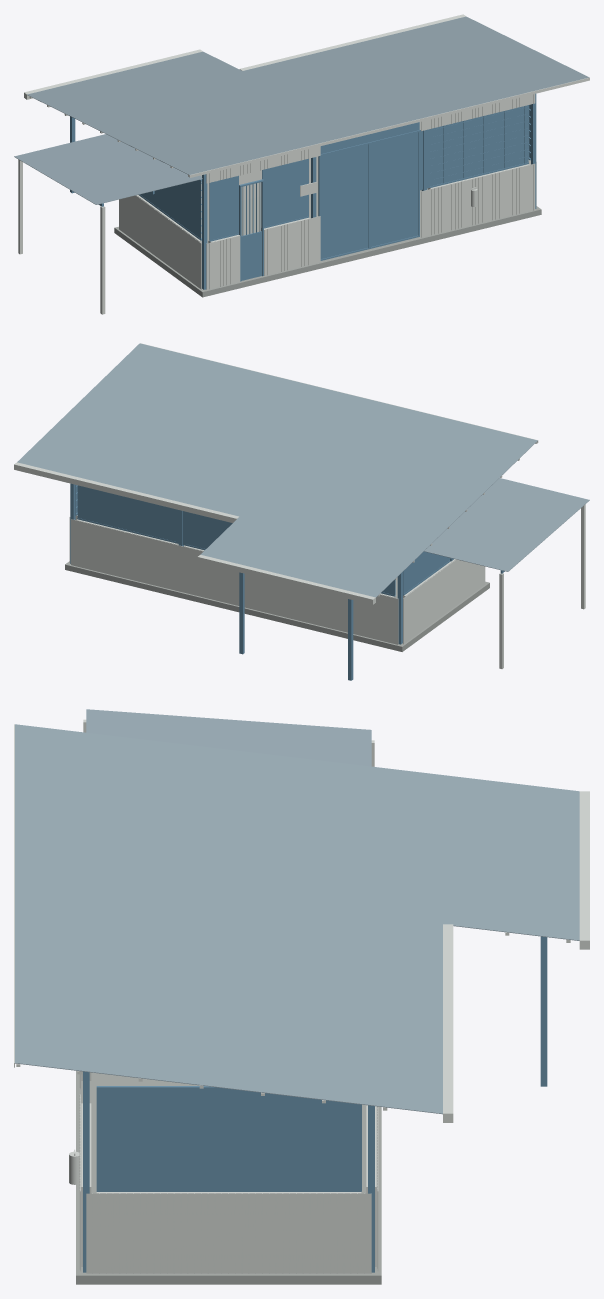
Rendered from bodega-quimicos.glb.
3 views of the same model, one above another, from view 1: azimuth 30°, elevation 25°; view 2: azimuth 150°, elevation 25°; view 3: azimuth 270°, elevation 25° (orthographic). The views are drawn at different scales.
Parts seen in each view (by area): view 1: Basic Roof VOCATUS Quimicos - Lamina esmaltada10mm repr_bab5, VOCATUS Quimicos - Malla fina oscura sobre verjas [1240804], VOCATUS Quimicos - Cerramiento lamina blanca acanalada_5af0e, Basic Roof VOCATUS Quimicos - Lamina esmaltada10mm repr_f8d0, Basic Roof VOCATUS Quimicos - Lamina esmaltada10mm repr_0f07, Foundation Slab VOCATUS Quimicos - Contrapiso150mm repr_fa52, VOCATUS Quimicos - Canoas y botaguas [1240729], VOCATUS Quimicos - Verja frente junto puerta2 [1240802], VOCATUS Quimicos - Verja frontal derecha [1240650], VOCATUS Quimicos - Puerta peatonal azul [1240803], VOCATUS Quimicos - Verja frente junto puerta1 [1240801], VOCATUS Quimicos - Porton metalico hoja 2 [1240652] (+6 smaller); view 2: Basic Roof VOCATUS Quimicos - Lamina esmaltada10mm repr_bab5, VOCATUS Quimicos - Cerramiento lamina blanca acanalada_5af0e, Basic Roof VOCATUS Quimicos - Lamina esmaltada10mm repr_0f07, Basic Roof VOCATUS Quimicos - Lamina esmaltada10mm repr_f8d0, VOCATUS Quimicos - Malla fina oscura sobre verjas [1240804], VOCATUS Quimicos - Canoas y botaguas [1240729], Foundation Slab VOCATUS Quimicos - Contrapiso150mm repr_fa52, VOCATUS Quimicos - Poste cobertizo 4200 [1240829], VOCATUS Quimicos - Columna area abierta 3216,6667 [1240643], VOCATUS Quimicos - Columna area abierta 0 [1240642], VOCATUS Quimicos - Poste cobertizo 0 [1240828]; view 3: Basic Roof VOCATUS Quimicos - Lamina esmaltada10mm repr_bab5, VOCATUS Quimicos - Malla fina oscura sobre verjas [1240804], VOCATUS Quimicos - Cerramiento lamina blanca acanalada_5af0e, Basic Roof VOCATUS Quimicos - Lamina esmaltada10mm repr_0f07, Basic Roof VOCATUS Quimicos - Lamina esmaltada10mm repr_f8d0, Foundation Slab VOCATUS Quimicos - Contrapiso150mm repr_fa52, VOCATUS Quimicos - Canoas y botaguas [1240729], VOCATUS Quimicos - Verja lateral derecha [1240648], VOCATUS Quimicos - Columna area abierta 3216,6667 [1240643], VOCATUS Quimicos - Columna 9700-4200 [1240641], VOCATUS Quimicos - Columna 9700-0 [1240637].
Part boxes in pixels (<box>): Basic Roof VOCATUS Quimicos - Lamina esmaltada10mm repr_bab5: <box>66,16,589,175</box>; VOCATUS Quimicos - Malla fina oscura sobre verjas [1240804]: <box>140,104,530,258</box>; VOCATUS Quimicos - Cerramiento lamina blanca acanalada_5af0e: <box>119,94,536,289</box>; Basic Roof VOCATUS Quimicos - Lamina esmaltada10mm repr_f8d0: <box>14,134,202,204</box>; Basic Roof VOCATUS Quimicos - Lamina esmaltada10mm repr_0f07: <box>27,51,241,113</box>; Foundation Slab VOCATUS Quimicos - Contrapiso150mm repr_fa52: <box>114,182,541,297</box>; VOCATUS Quimicos - Canoas y botaguas [1240729]: <box>24,14,589,177</box>; VOCATUS Quimicos - Verja frente junto puerta2 [1240802]: <box>262,159,308,228</box>; VOCATUS Quimicos - Verja frontal derecha [1240650]: <box>429,105,528,187</box>; VOCATUS Quimicos - Puerta peatonal azul [1240803]: <box>239,179,263,281</box>; VOCATUS Quimicos - Verja frente junto puerta1 [1240801]: <box>209,175,238,241</box>; VOCATUS Quimicos - Porton metalico hoja 2 [1240652]: <box>369,130,419,248</box>; Basic Roof VOCATUS Quimicos - Lamina esmaltada10mm repr_bab5: <box>17,343,537,559</box>; VOCATUS Quimicos - Cerramiento lamina blanca acanalada_5af0e: <box>69,517,485,644</box>; Basic Roof VOCATUS Quimicos - Lamina esmaltada10mm repr_0f07: <box>201,517,414,597</box>; Basic Roof VOCATUS Quimicos - Lamina esmaltada10mm repr_f8d0: <box>424,478,589,571</box>; VOCATUS Quimicos - Malla fina oscura sobre verjas [1240804]: <box>76,485,449,594</box>; VOCATUS Quimicos - Canoas y botaguas [1240729]: <box>14,343,538,604</box>; Foundation Slab VOCATUS Quimicos - Contrapiso150mm repr_fa52: <box>65,544,489,651</box>; VOCATUS Quimicos - Poste cobertizo 4200 [1240829]: <box>581,504,585,609</box>; VOCATUS Quimicos - Columna area abierta 3216,6667 [1240643]: <box>239,572,244,654</box>; VOCATUS Quimicos - Columna area abierta 0 [1240642]: <box>348,599,353,680</box>; VOCATUS Quimicos - Poste cobertizo 0 [1240828]: <box>499,573,503,668</box>; Basic Roof VOCATUS Quimicos - Lamina esmaltada10mm repr_bab5: <box>15,724,442,1114</box>; VOCATUS Quimicos - Malla fina oscura sobre verjas [1240804]: <box>96,1089,361,1189</box>; VOCATUS Quimicos - Cerramiento lamina blanca acanalada_5af0e: <box>79,1074,378,1273</box>; Basic Roof VOCATUS Quimicos - Lamina esmaltada10mm repr_0f07: <box>443,775,579,940</box>; Basic Roof VOCATUS Quimicos - Lamina esmaltada10mm repr_f8d0: <box>86,709,371,766</box>; Foundation Slab VOCATUS Quimicos - Contrapiso150mm repr_fa52: <box>76,1070,381,1284</box>; VOCATUS Quimicos - Canoas y botaguas [1240729]: <box>14,724,589,1122</box>; VOCATUS Quimicos - Verja lateral derecha [1240648]: <box>96,1086,361,1191</box>; VOCATUS Quimicos - Columna area abierta 3216,6667 [1240643]: <box>540,936,547,1086</box>; VOCATUS Quimicos - Columna 9700-4200 [1240641]: <box>83,1071,89,1272</box>; VOCATUS Quimicos - Columna 9700-0 [1240637]: <box>368,1105,374,1272</box>.
Size of the model in its own units: 13.95 by 4.02 by 8.48.
